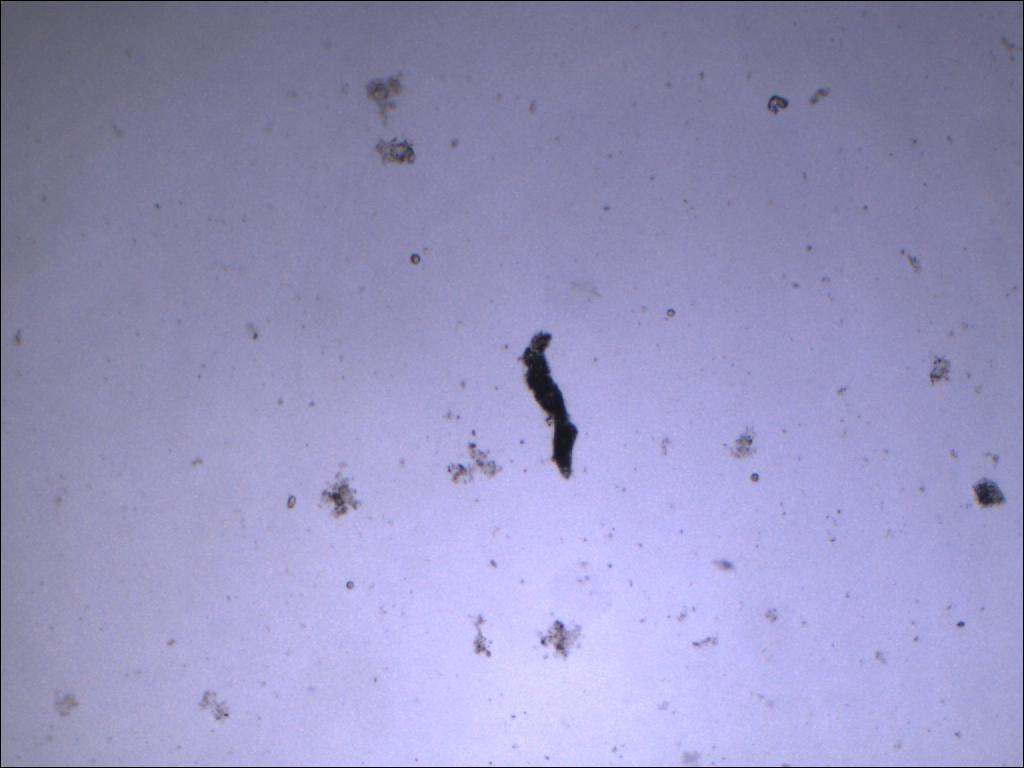amoeba: (515, 325, 585, 486)
